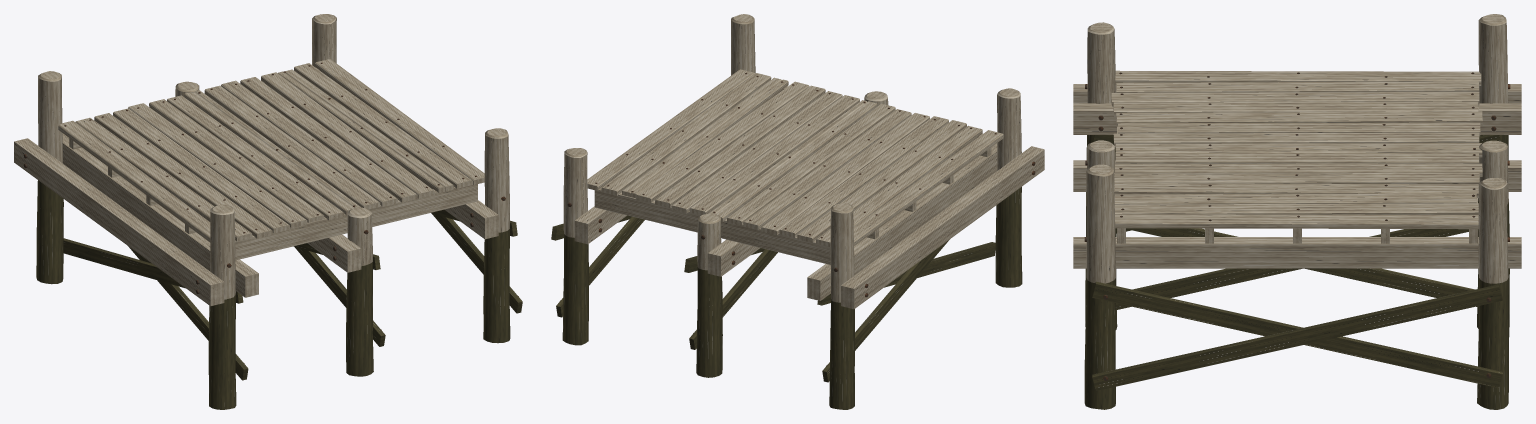
3 views of the same model, side by side, from view 1: azimuth 30°, elevation 25°; view 2: azimuth 150°, elevation 25°; view 3: azimuth 270°, elevation 25° (orthographic). The views are drawn at different scales.
Visible parts, largest first — view 1: timber, wet, iron; view 2: timber, wet, iron; view 3: timber, wet, iron.
Part boxes in pixels (left/top/right/bottom): timber: left=14, top=14, right=509, bottom=306; wet: left=36, top=180, right=522, bottom=409; iron: left=23, top=62, right=518, bottom=363; timber: left=563, top=14, right=1044, bottom=309; wet: left=551, top=187, right=1022, bottom=409; iron: left=559, top=73, right=1035, bottom=365; timber: left=1073, top=14, right=1521, bottom=283; wet: left=1084, top=135, right=1509, bottom=409; iron: left=1084, top=72, right=1510, bottom=380.
Bounding box in the file's own units: 3.54 × 2.14 × 3.72.
Materials: 3 (3 with a texture image).
